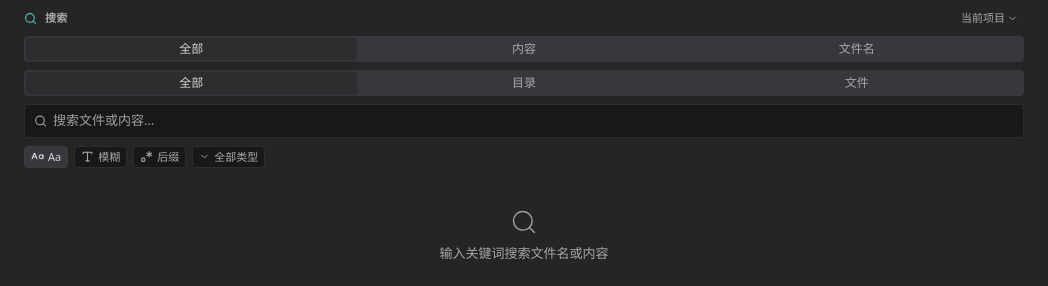
Test case: SearchPanel › runs a filename search after typing a query and renders the hit
Step 1. Type "app" into the field with placeholder "搜索文件或内容…" → (524, 121), box [24,104,1024,138]
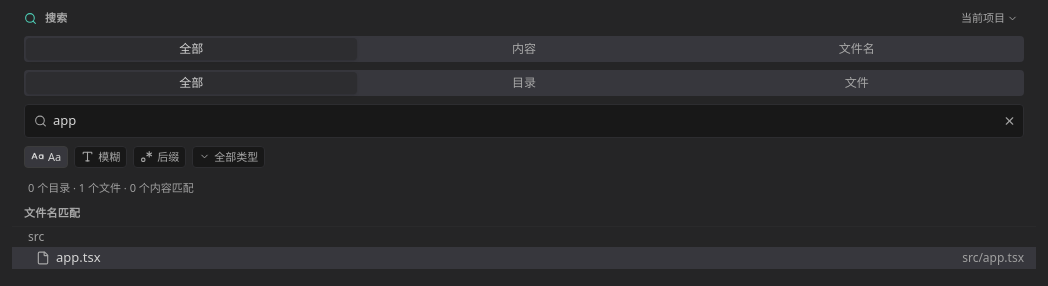
Check: the text "文件名匹配" is shown, box [24,205,80,221]
Check: the text "app.tsx" is shown, box [56,248,101,267]
